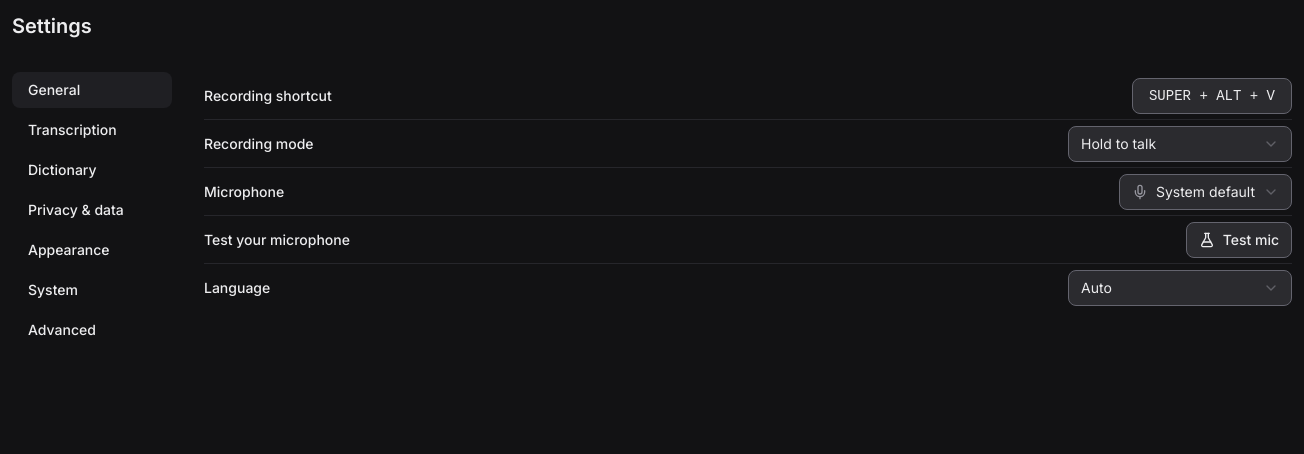
Test: shows the provider check result without claiming success: Transcription: model unavailable; choose another model in Advanced
What coordinates should you click on to do the following:
click the button "Transcription"
I would click on:
 (92, 130)
Its box is [12,112,172,148].
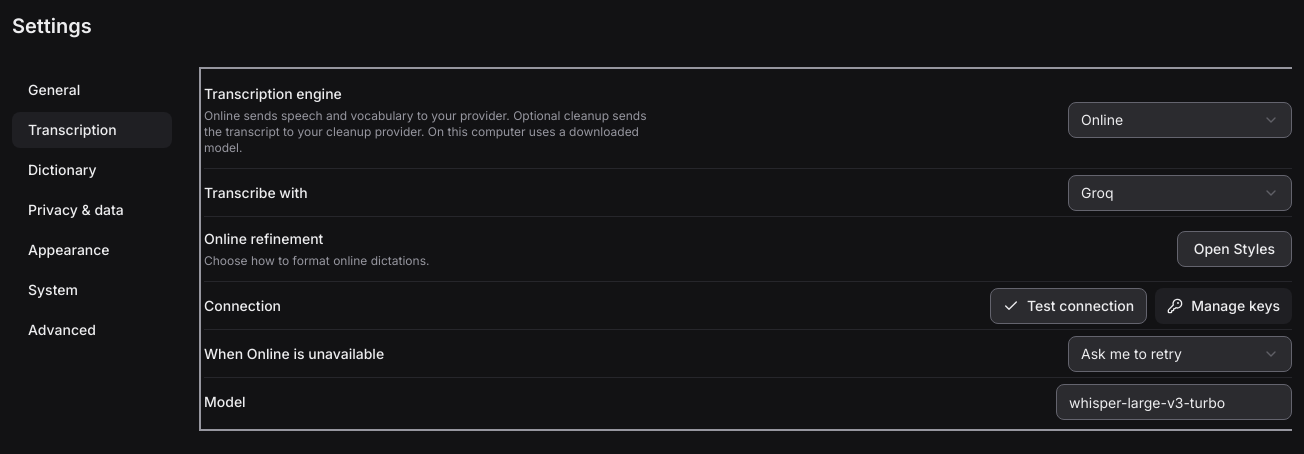
What coordinates should you click on to do the following:
click the button "Test connection"
I would click on:
 (1069, 306)
Its box is [990,288,1147,324].
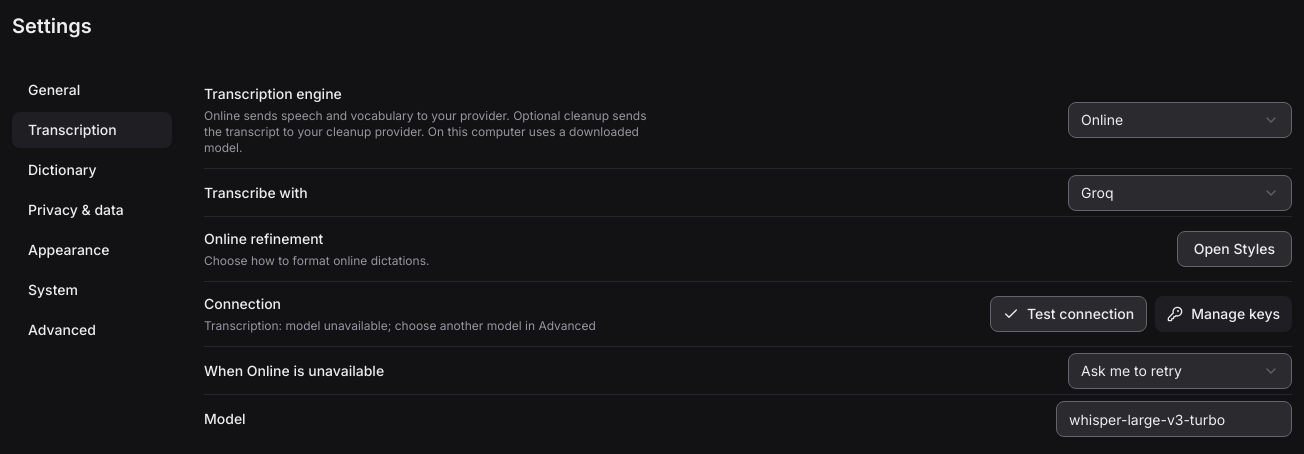
Now the text "Transcription: model unavailable; choose another model in Advanced" is shown, box [204,318,596,334]
